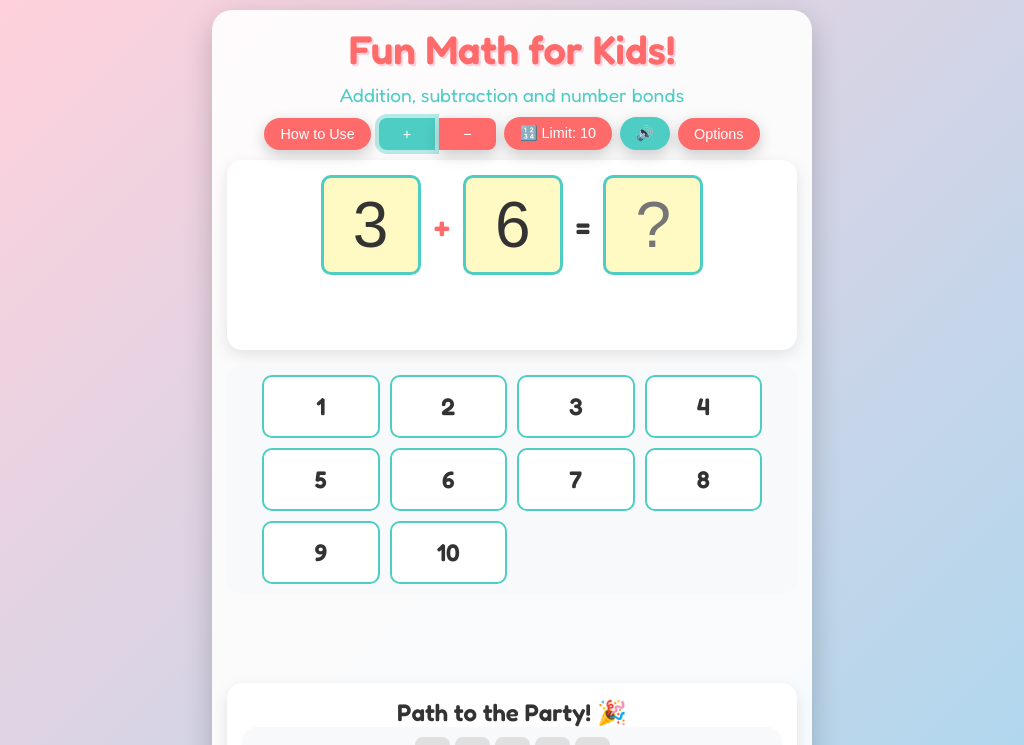
Test case: App limit save › generates exactly one new item when a limit is saved
Click the button with class "action-btn" showing "🔢 Limit: 10".
click(558, 134)  # box [504,117,612,150]
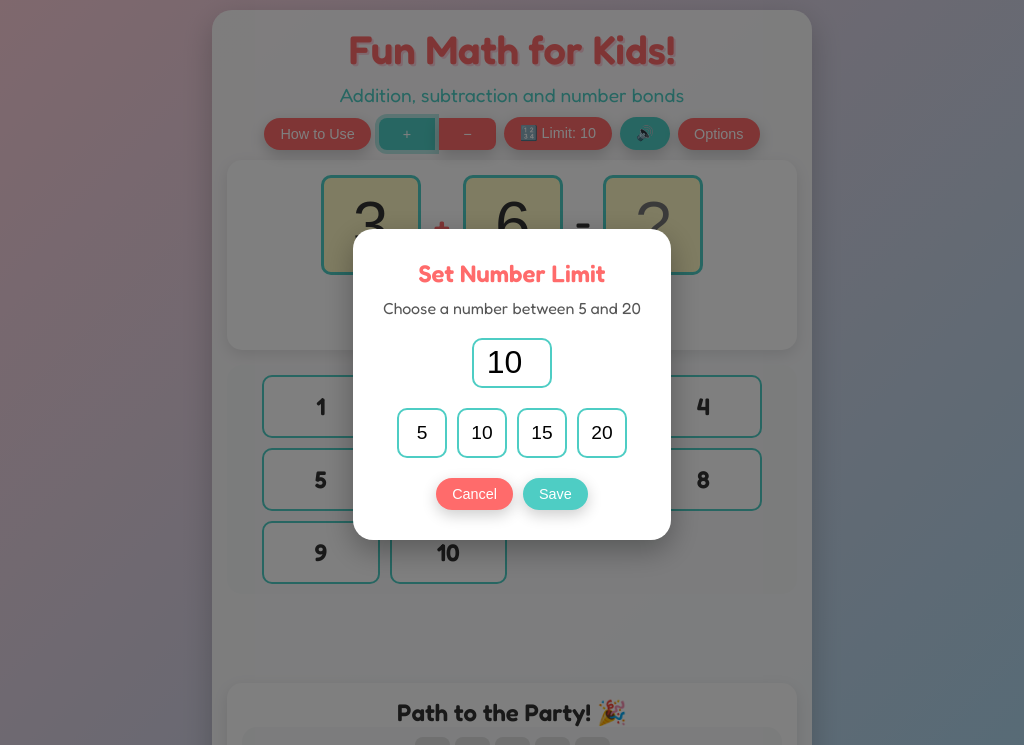
Replace the text in the number field with "20" at (512, 362), box [472,338,552,388]
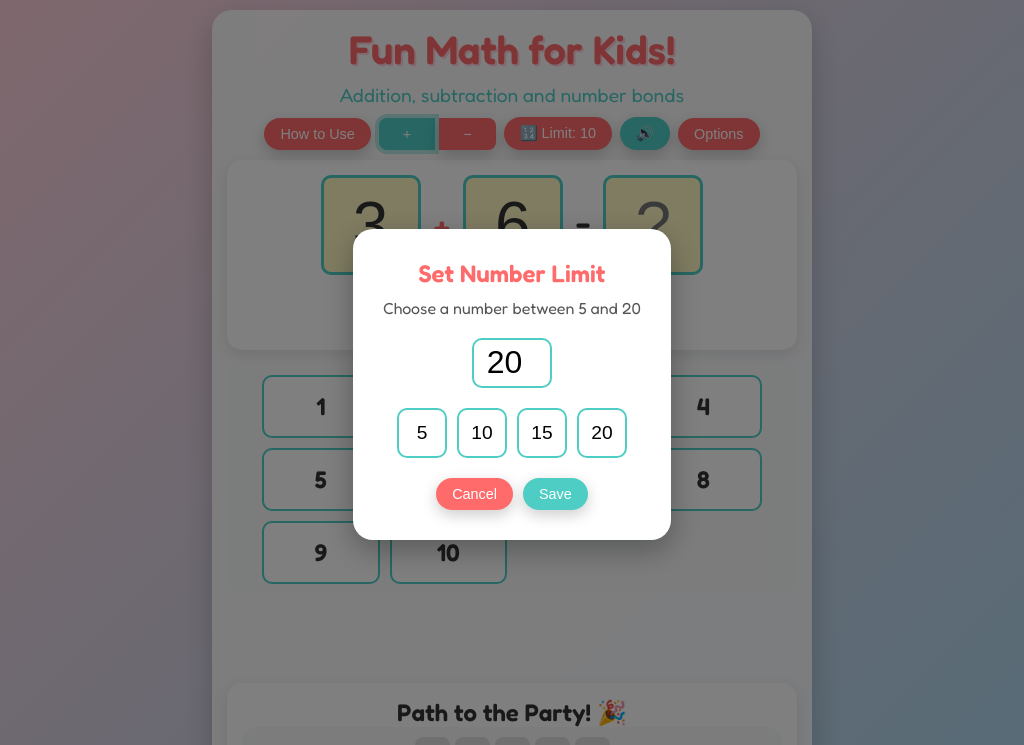
Click the button with class "action-btn" showing "Save".
click(555, 494)  # box [523,478,588,510]
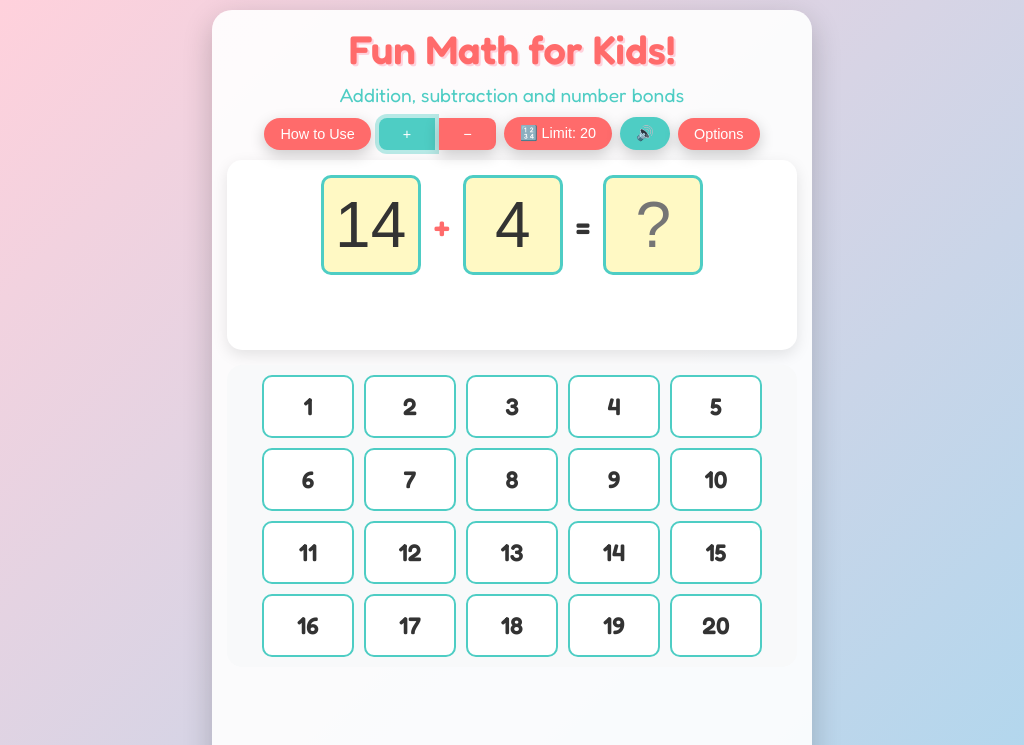
Check: the number of buttons with class "touchpad-btn" is 20
